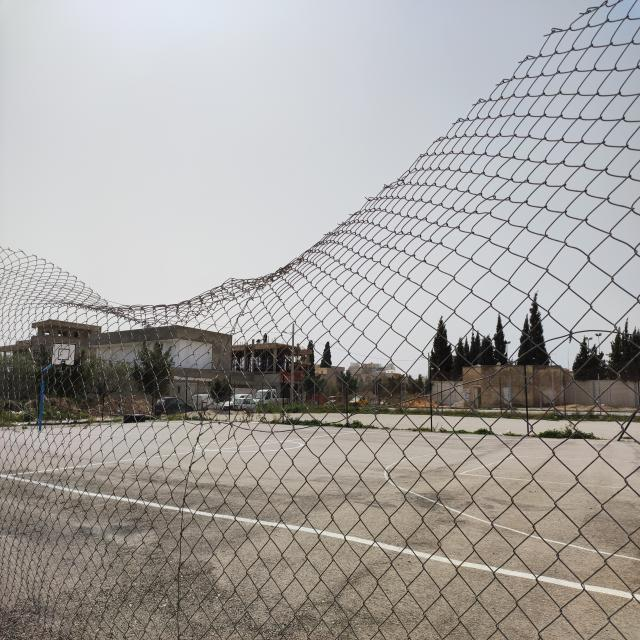fence line: (19, 31, 561, 291)
